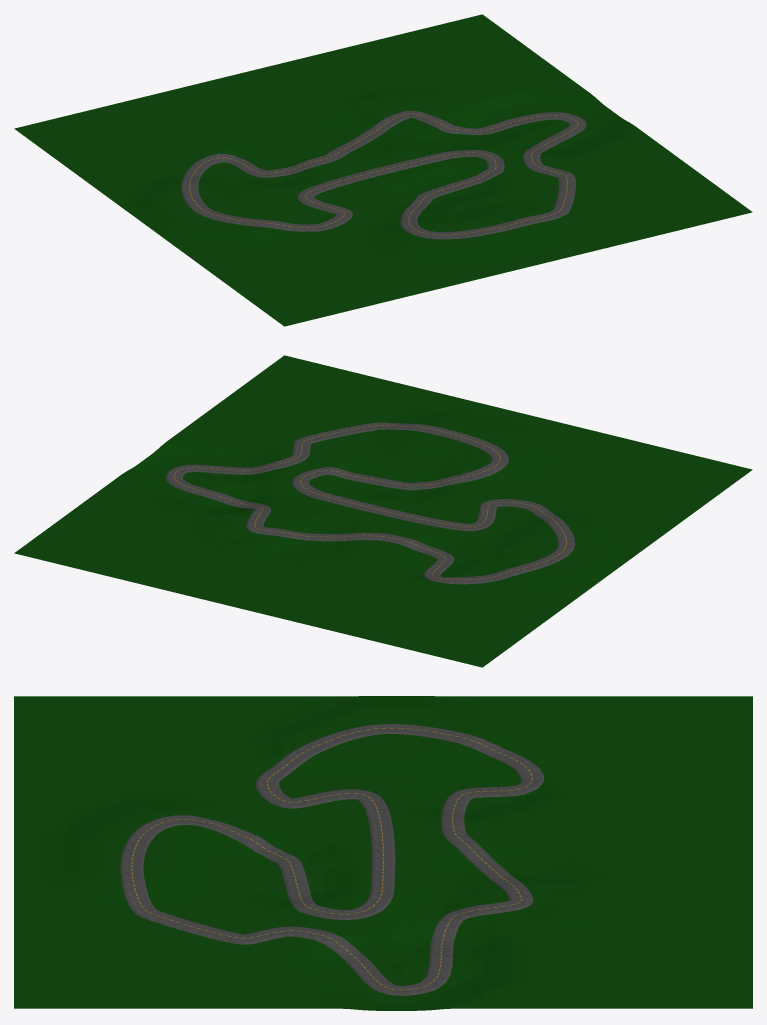
Rendered from road_reliefs.glb.
3 views of the same model, one above another, from view 1: azimuth 30°, elevation 25°; view 2: azimuth 150°, elevation 25°; view 3: azimuth 270°, elevation 25° (orthographic). The views are drawn at different scales.
Visible parts, largest first — view 1: ground-col, roadmesh-col; view 2: ground-col, roadmesh-col; view 3: ground-col, roadmesh-col.
Part boxes in pixels (<box>): ground-col: <box>14,14,752,326</box>; roadmesh-col: <box>181,110,586,239</box>; ground-col: <box>14,355,752,667</box>; roadmesh-col: <box>165,422,574,584</box>; ground-col: <box>14,696,752,1010</box>; roadmesh-col: <box>120,724,543,995</box>.
Size of the model in its own units: 86.31 by 2.54 by 86.31.
2 materials, 1 textured.
